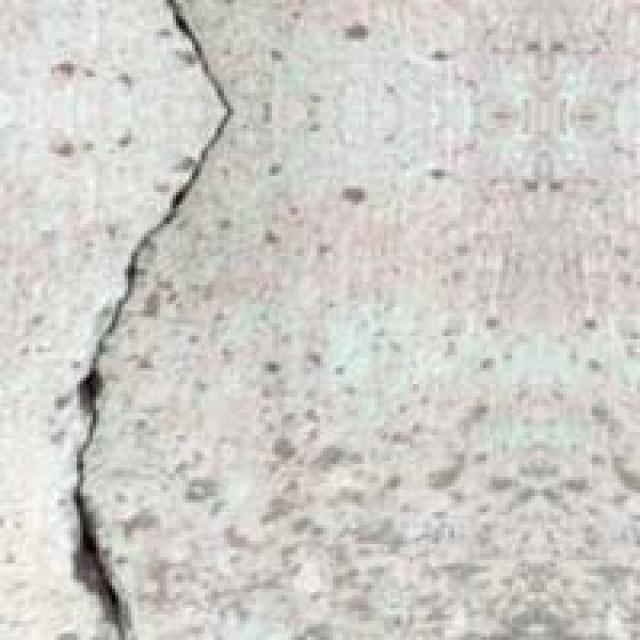Crack: (41, 0, 282, 637)
